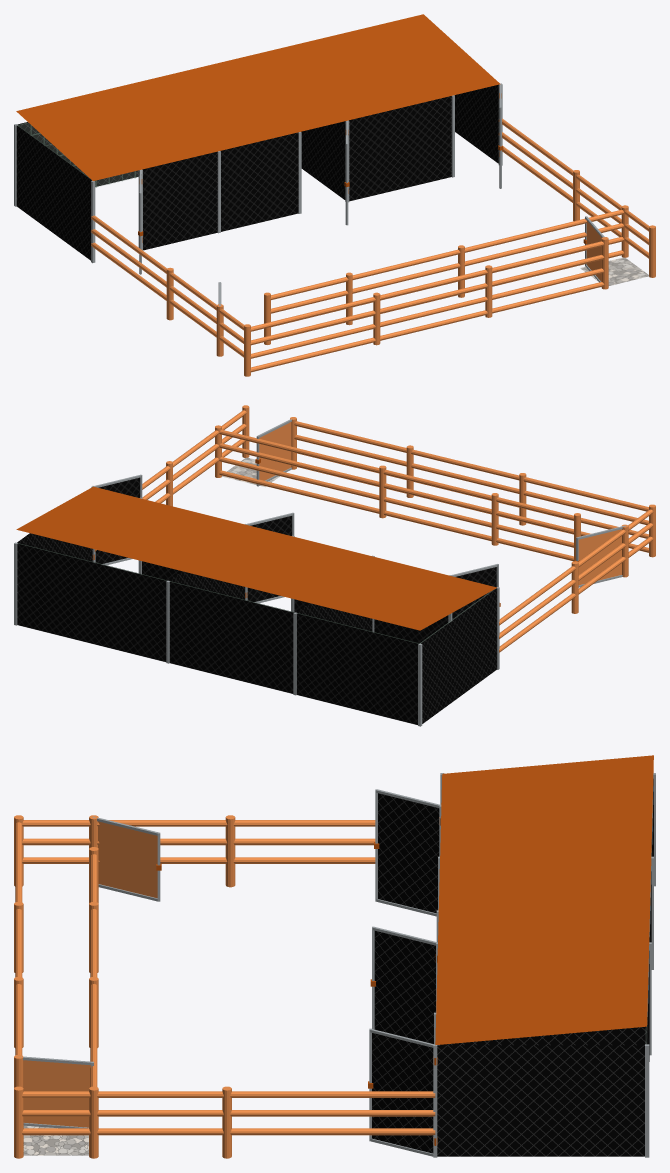
The model's file is poi04_casa_pedro_preview.glb.
3 renders of one model, top to bottom at view 1: azimuth 30°, elevation 25°; view 2: azimuth 150°, elevation 25°; view 3: azimuth 270°, elevation 25°, orthographic. The views are drawn at different scales.
Parts seen in each view (by area): view 1: techo_lamina_una_agua, malla_ciclonica_cuartos, corral_troncos_3_travesanos, pasillo_salida_cerca_interior, divisiones_cuartos, corral_4a_tabla_baja_foto02, empedrado_junto_a_G1, lona_malla_sombra_fondo_y_lado_izq, puerta_corral_exterior_G1; view 2: malla_ciclonica_cuartos, techo_lamina_una_agua, corral_troncos_3_travesanos, pasillo_salida_cerca_interior, divisiones_cuartos, acceso_patio_pasillo_A1, puerta_corral_exterior_G1, puerta_P2, puerta_P3, puerta_P1, lona_malla_sombra_fondo_y_lado_izq; view 3: techo_lamina_una_agua, malla_ciclonica_cuartos, corral_troncos_3_travesanos, puerta_P1, puerta_P2, puerta_P3, acceso_patio_pasillo_A1, puerta_corral_exterior_G1, divisiones_cuartos, pasillo_salida_cerca_interior, empedrado_junto_a_G1, eje_corral_lat_0 (+3 smaller).
Boxes of the visible parts, x1,y1,x2,y2 form: techo_lamina_una_agua: (16, 14, 500, 180); malla_ciclonica_cuartos: (16, 84, 498, 260); corral_troncos_3_travesanos: (91, 118, 649, 358); pasillo_salida_cerca_interior: (270, 209, 624, 340); divisiones_cuartos: (301, 121, 345, 199); corral_4a_tabla_baja_foto02: (250, 282, 604, 372); empedrado_junto_a_G1: (580, 257, 648, 285); lona_malla_sombra_fondo_y_lado_izq: (18, 122, 138, 187); puerta_corral_exterior_G1: (583, 216, 604, 282); malla_ciclonica_cuartos: (17, 533, 496, 724); techo_lamina_una_agua: (16, 486, 496, 630); corral_troncos_3_travesanos: (94, 410, 653, 652); pasillo_salida_cerca_interior: (219, 429, 574, 561); divisiones_cuartos: (169, 571, 372, 631); acceso_patio_pasillo_A1: (575, 525, 625, 587); puerta_corral_exterior_G1: (255, 418, 293, 486); puerta_P2: (245, 512, 294, 603); puerta_P3: (92, 474, 142, 565); puerta_P1: (450, 564, 500, 620); lona_malla_sombra_fondo_y_lado_izq: (18, 543, 493, 643); techo_lamina_una_agua: (435, 755, 653, 1045); malla_ciclonica_cuartos: (437, 779, 653, 1156); corral_troncos_3_travesanos: (15, 820, 435, 1135); puerta_P1: (374, 789, 440, 916); puerta_P2: (370, 926, 437, 1043); puerta_P3: (368, 1028, 437, 1156); acceso_patio_pasillo_A1: (93, 816, 161, 901); puerta_corral_exterior_G1: (19, 1056, 93, 1128); divisiones_cuartos: (440, 932, 649, 1045); pasillo_salida_cerca_interior: (90, 854, 97, 1086); empedrado_junto_a_G1: (23, 1125, 88, 1155); eje_corral_lat_0: (225, 815, 235, 887).
Bounding box in the file's own units: 9.54 × 2.1 × 9.4.
7 materials, 3 textured.
